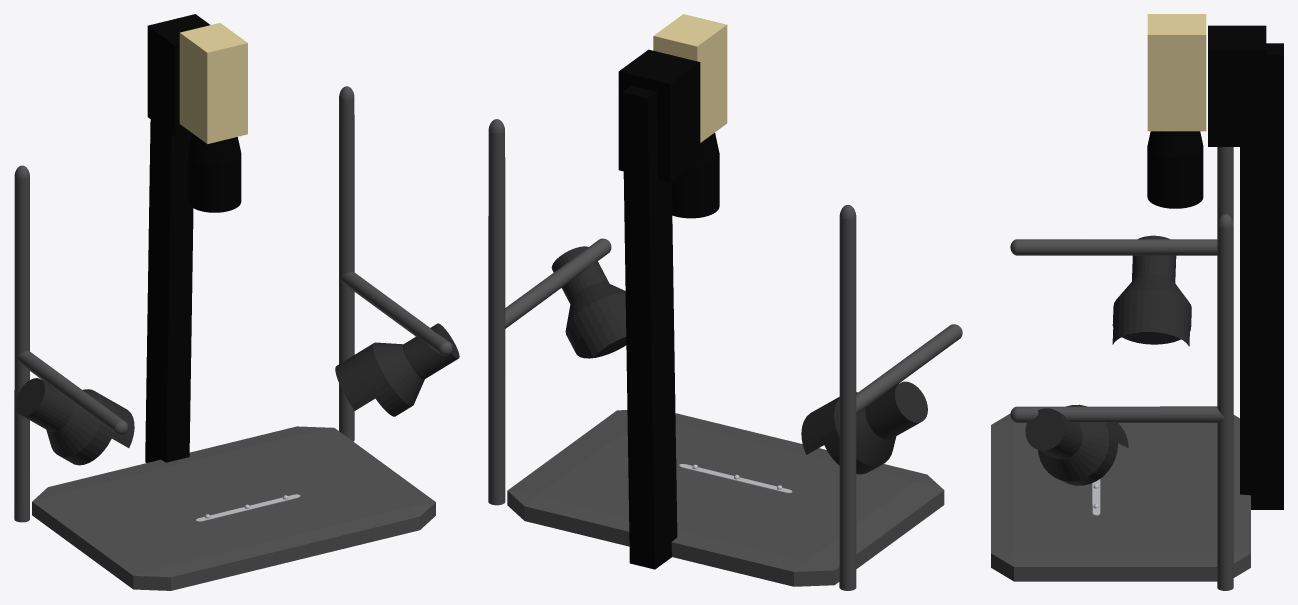
File: RecordingOnPaper.fbx
3 renders of one model, left to right at view 1: azimuth 30°, elevation 25°; view 2: azimuth 150°, elevation 25°; view 3: azimuth 270°, elevation 25°, orthographic. The views are drawn at different scales.
Visible parts, largest first — view 1: Counter, CamHolder, LightsHolder, Light2, Light1; view 2: Counter, CamHolder, LightsHolder, Light1, Light2; view 3: CamHolder, Counter, LightsHolder, Light1, Light2.
Boxes of the visible parts, x1=… form: Counter: x1=32, y1=426, x2=435, y2=590; CamHolder: x1=145, y1=14, x2=247, y2=462; LightsHolder: x1=14, y1=86, x2=452, y2=522; Light2: x1=335, y1=323, x2=459, y2=416; Light1: x1=15, y1=378, x2=134, y2=465; Counter: x1=507, y1=410, x2=944, y2=586; CamHolder: x1=618, y1=14, x2=727, y2=569; LightsHolder: x1=488, y1=119, x2=962, y2=590; Light1: x1=801, y1=381, x2=927, y2=474; Light2: x1=551, y1=246, x2=626, y2=358; CamHolder: x1=1147, y1=14, x2=1283, y2=509; Counter: x1=991, y1=413, x2=1250, y2=581; LightsHolder: x1=1010, y1=147, x2=1233, y2=590; Light1: x1=1112, y1=235, x2=1191, y2=346; Light2: x1=1025, y1=404, x2=1128, y2=485.
Size of the model in its own units: 572 by 644 by 353.
